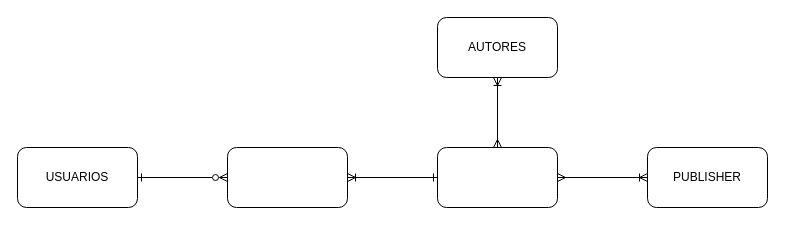
The diagram is 785 pixels wide and 225 high, and some of its shapes have lost their labels. The shapes that lost their labels are listed below. From the top down, each one's box as (x1, y1, x2, y2) in pixels, then its label:
(226, 146, 348, 208): RESEÑAS
(436, 146, 558, 208): LIBROS
